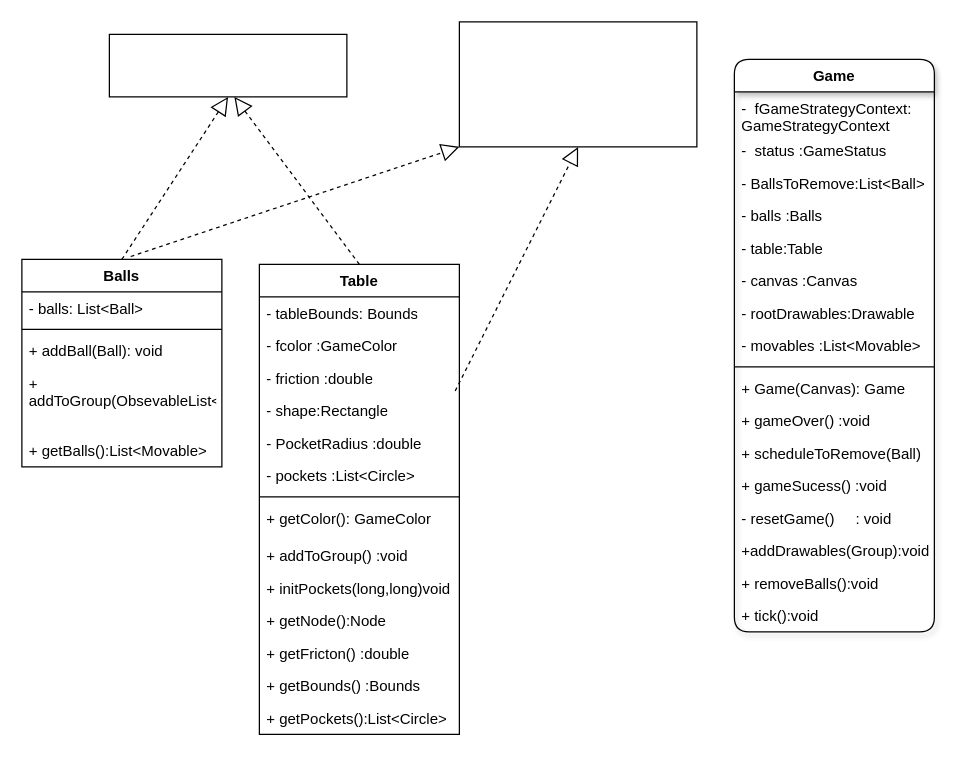
This 964x760 diagram has some shape labels left out. Each missing label, with the centre of its shape:
"<<Interface>> Game" belongs at (x=227, y=65).
"<<Interface>> Interface + getNode(): Node + addToGroup(Nodes): void" belongs at (x=577, y=84).
